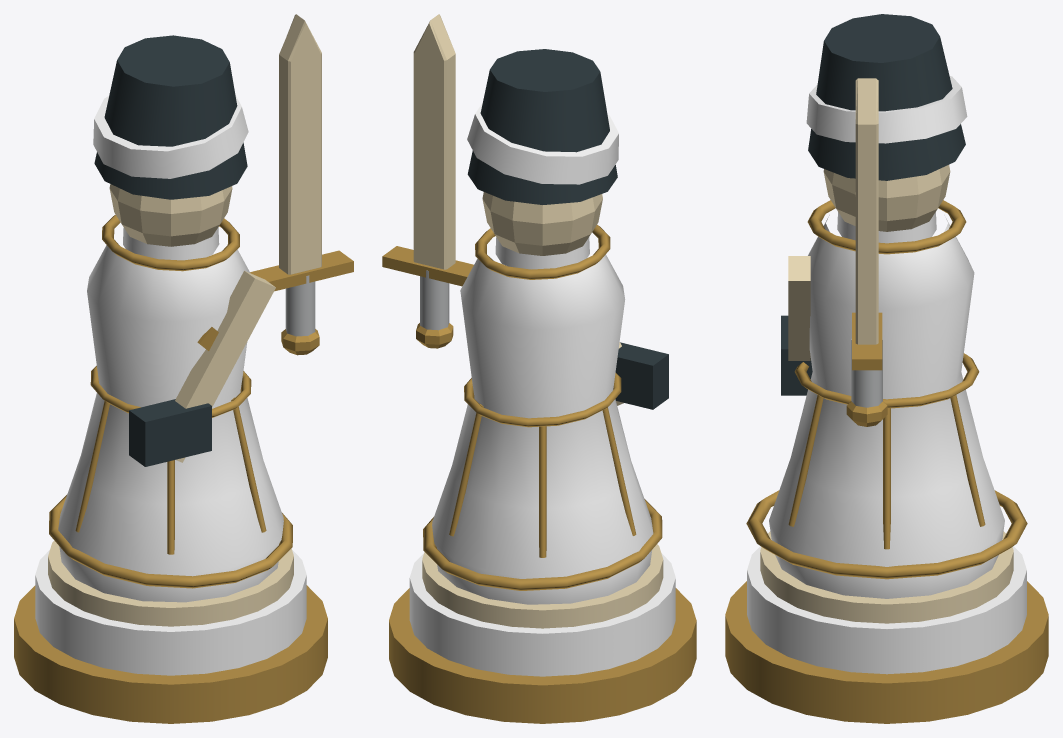
The model's file is companyGuard.glb.
3 views of the same model, side by side, from view 1: azimuth 30°, elevation 25°; view 2: azimuth 150°, elevation 25°; view 3: azimuth 270°, elevation 25° (orthographic). The views are drawn at different scales.
Parts seen in each view (by area): view 1: Turned enamel robe, Trim plinth, Dark wrapped turban, Enamel base, Swordsman pointed ivory blade, Ivory base bead, Diagonal turban fold, Faceted ivory face, Ivory crossbelt, Cartridge box, Trim hem, Trim collar bead (+8 smaller); view 2: Turned enamel robe, Trim plinth, Dark wrapped turban, Enamel base, Swordsman pointed ivory blade, Ivory base bead, Faceted ivory face, Diagonal turban fold, Trim hem, Cartridge box, Trim collar bead, Trim waist band (+7 smaller); view 3: Turned enamel robe, Trim plinth, Enamel base, Dark wrapped turban, Ivory base bead, Swordsman pointed ivory blade, Trim hem, Diagonal turban fold, Faceted ivory face, Ivory crossbelt, Trim collar bead, Trim waist band (+8 smaller).
Part boxes in pixels (x1,y1,x2,y2): Turned enamel robe: (58,245,283,602); Trim plinth: (14,585,327,723); Dark wrapped turban: (94,35,247,199); Enamel base: (35,550,306,675); Swordsman pointed ivory blade: (279,14,321,274); Ivory base bead: (48,540,293,626); Diagonal turban fold: (93,95,248,178); Faceted ivory face: (109,184,232,246); Ivory crossbelt: (175,270,275,462); Cartridge box: (129,399,211,466); Trim hem: (49,495,292,588); Trim collar bead: (102,215,239,271); Turned enamel robe: (432,254,653,604); Trim plinth: (389,588,696,723); Dark wrapped turban: (467,49,617,204); Enamel base: (409,553,675,676); Swordsman pointed ivory blade: (413,14,455,269); Ivory base bead: (422,544,663,628); Faceted ivory face: (482,192,602,255); Diagonal turban fold: (467,103,618,184); Trim hem: (423,499,662,590); Cartridge box: (615,342,668,409); Trim collar bead: (475,224,610,279); Trim waist band: (464,373,621,427); Turned enamel robe: (769,215,1004,598); Trim plinth: (725,581,1048,723); Enamel base: (747,546,1026,674); Dark wrapped turban: (808,14,965,180); Ivory base bead: (760,531,1013,623); Swordsman pointed ivory blade: (855,78,878,344); Trim hem: (746,490,1027,579); Diagonal turban fold: (806,76,967,143); Faceted ivory face: (823,165,950,231); Ivory crossbelt: (788,256,810,360); Trim collar bead: (807,200,966,254); Trim waist band: (794,353,979,408).
Size of the model in its own units: 0.5206 by 1.02 by 0.4689.
